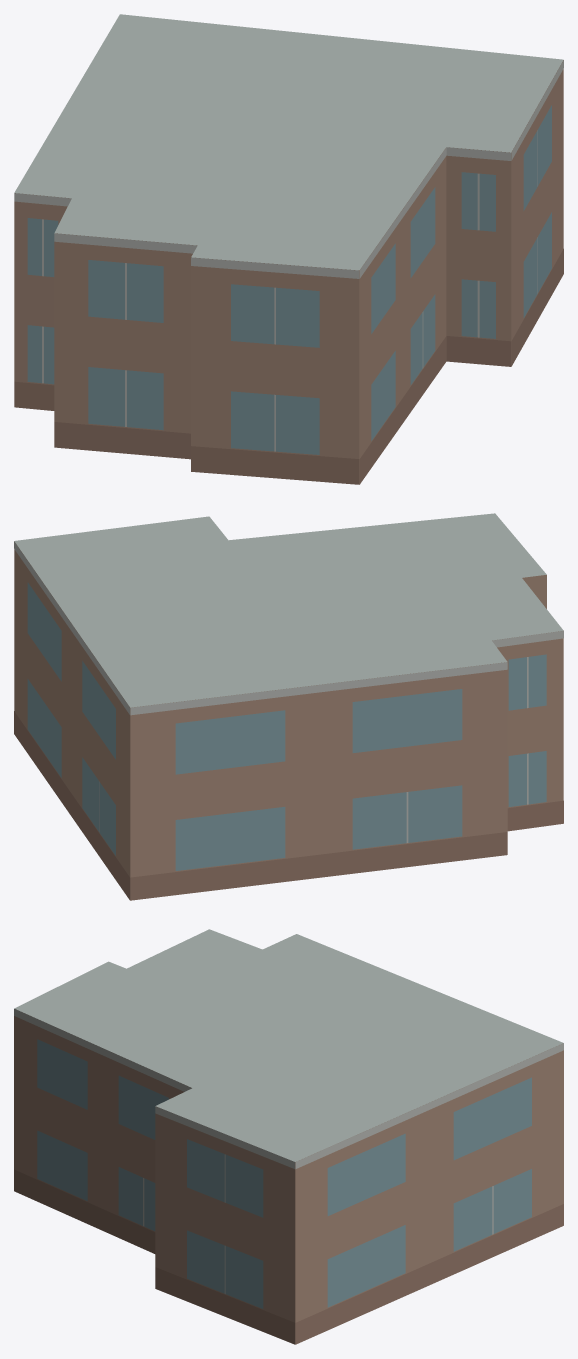
The model's file is survey-upis-32964839.glb.
3 renders of one model, top to bottom at view 1: azimuth 30°, elevation 25°; view 2: azimuth 150°, elevation 25°; view 3: azimuth 270°, elevation 25°, orthographic. The views are drawn at different scales.
Visible parts, largest first — view 1: survey-upis-32964839.tmp; view 2: survey-upis-32964839.tmp; view 3: survey-upis-32964839.tmp.
Part boxes in pixels (left/top/right/bottom): survey-upis-32964839.tmp: left=14, top=14, right=563, bottom=484; survey-upis-32964839.tmp: left=14, top=513, right=563, bottom=900; survey-upis-32964839.tmp: left=14, top=929, right=563, bottom=1344.
Size of the model in its own units: 16.69 by 6.1 by 16.65.
